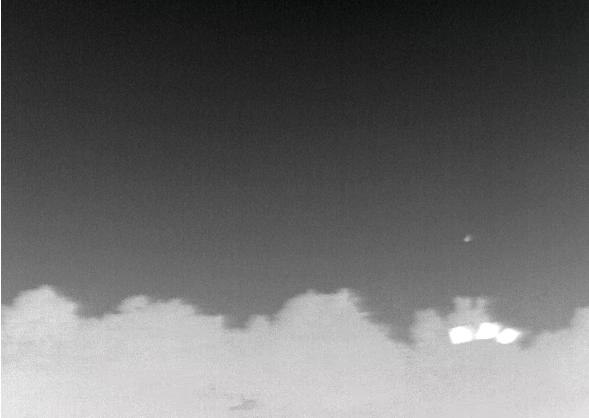dim target: (461, 234, 474, 242)
